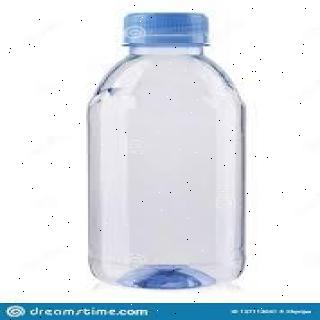Plastic-bottle: (84, 10, 253, 293)
